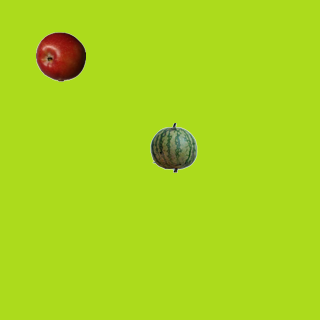Apple Braeburn: (35, 31, 85, 81)
Watermelon: (148, 122, 198, 172)
